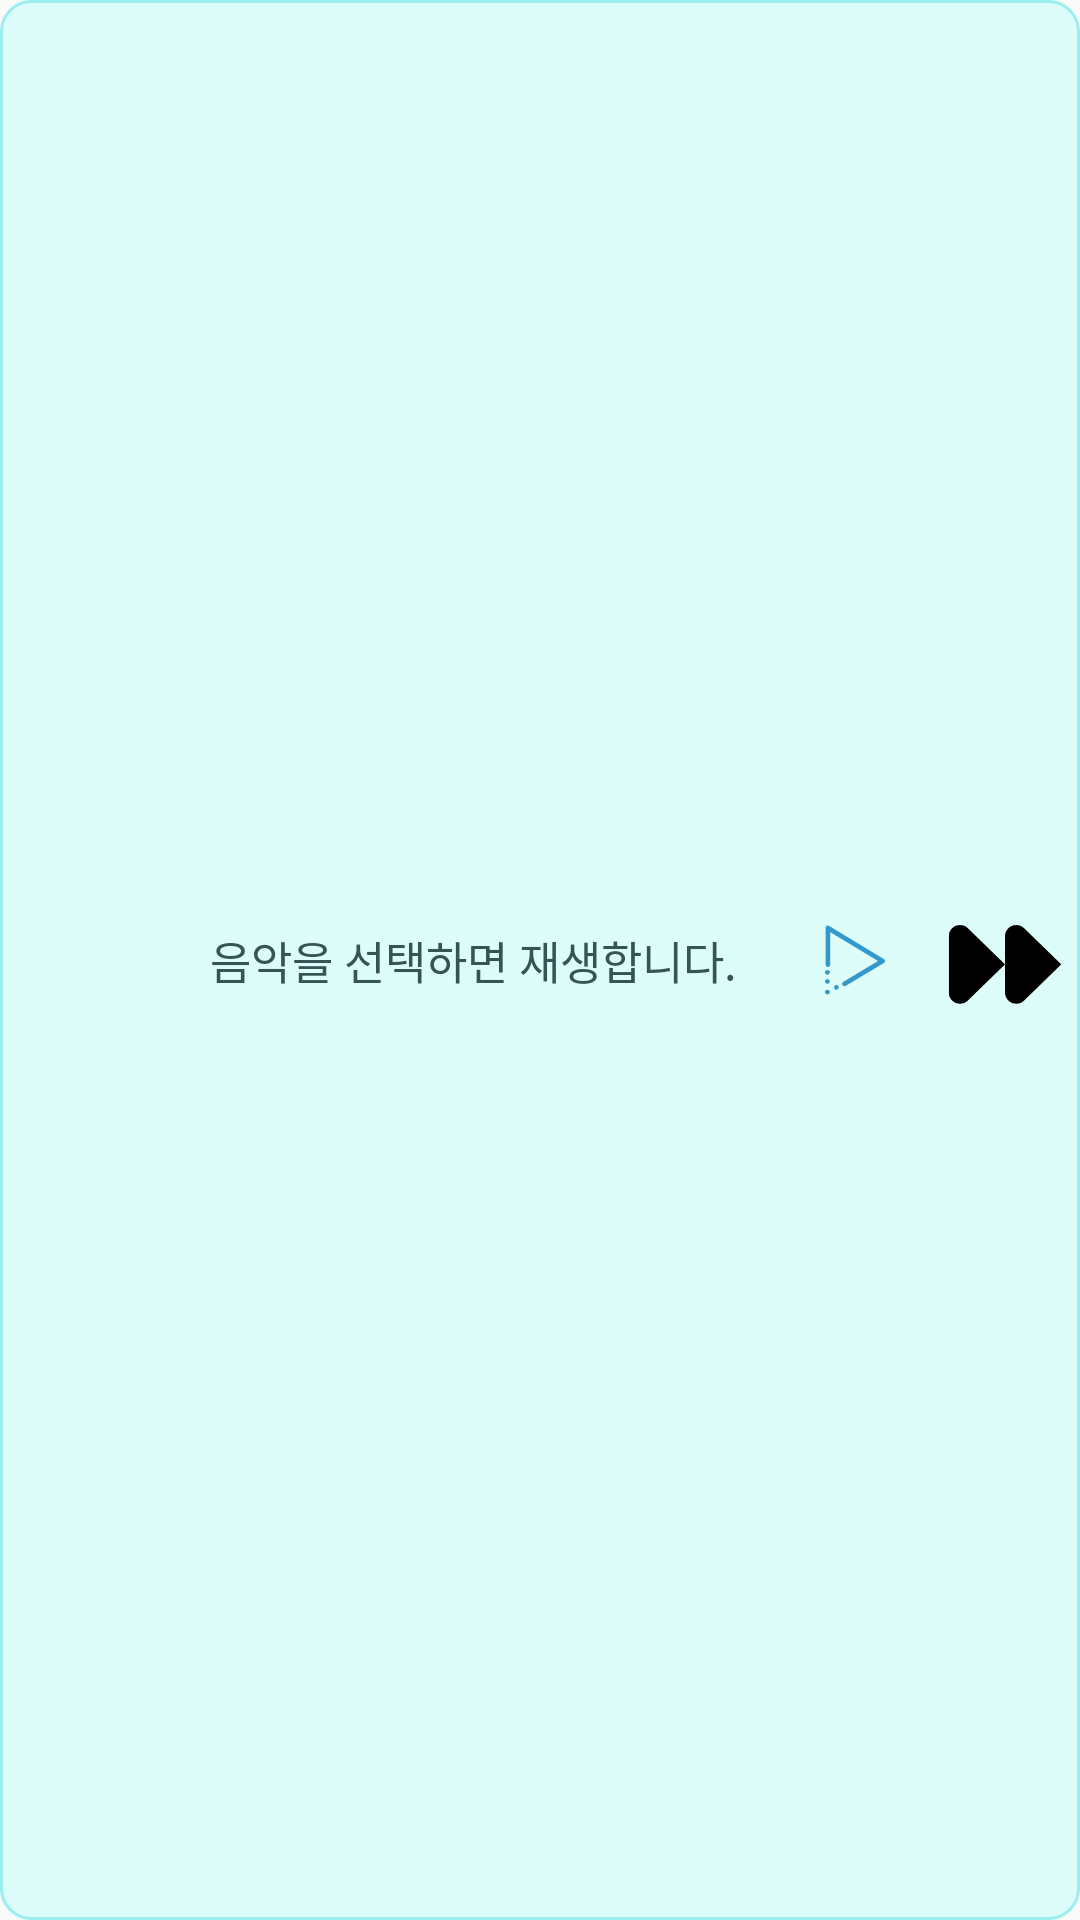

Named icons in this screenshot (1080x1920) and their centers, (x=x, y=y):
next: (x=1005, y=964)
play: (x=855, y=960)
